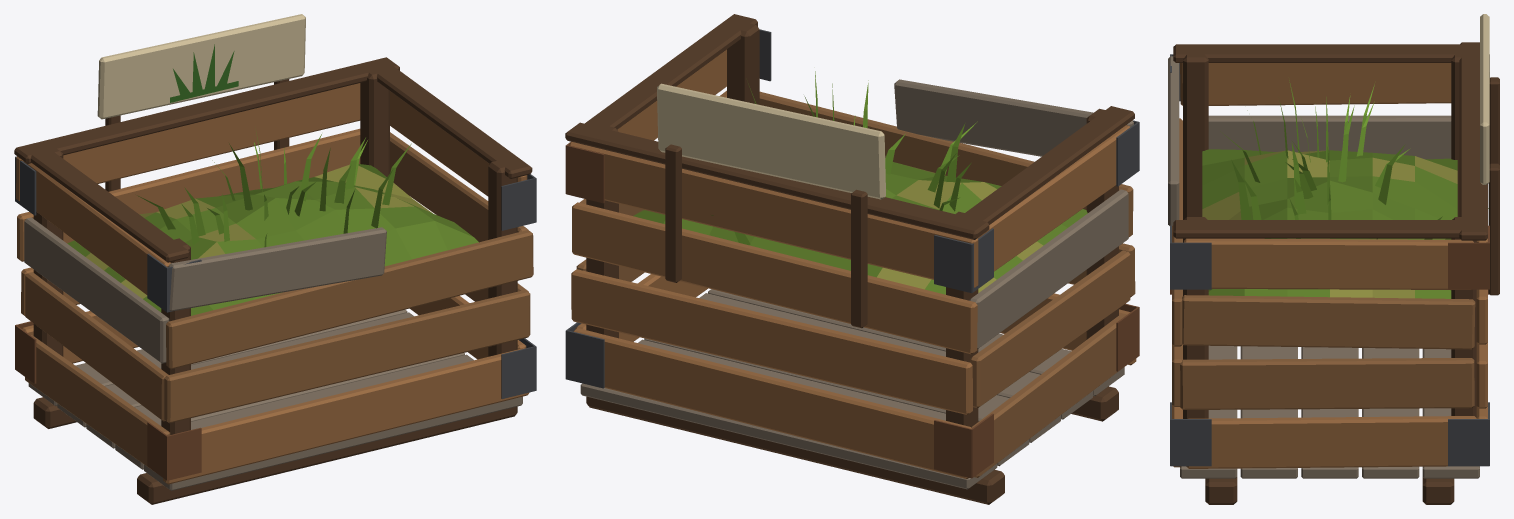
The model's file is SellPoint_Bin.fbx.
3 views of the same model, side by side, from view 1: azimuth 30°, elevation 25°; view 2: azimuth 150°, elevation 25°; view 3: azimuth 270°, elevation 25° (orthographic). The views are drawn at different scales.
Parts seen in each view (by area): view 1: SellPoint_Bin; view 2: SellPoint_Bin; view 3: SellPoint_Bin.
Part boxes in pixels (x1,y1,x2,y2): SellPoint_Bin: [14, 14, 536, 504]; SellPoint_Bin: [565, 14, 1139, 504]; SellPoint_Bin: [1168, 14, 1499, 504].
Size of the model in its own units: 1.42 by 1.2 by 1.04.
1 material, 1 textured.
